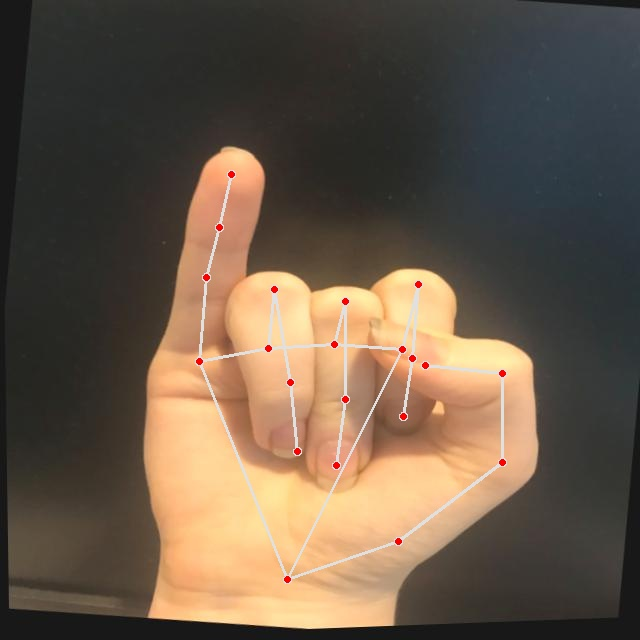I: (110, 125, 578, 632)
